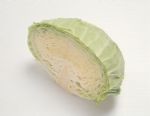cabbage: (27, 15, 125, 104)
